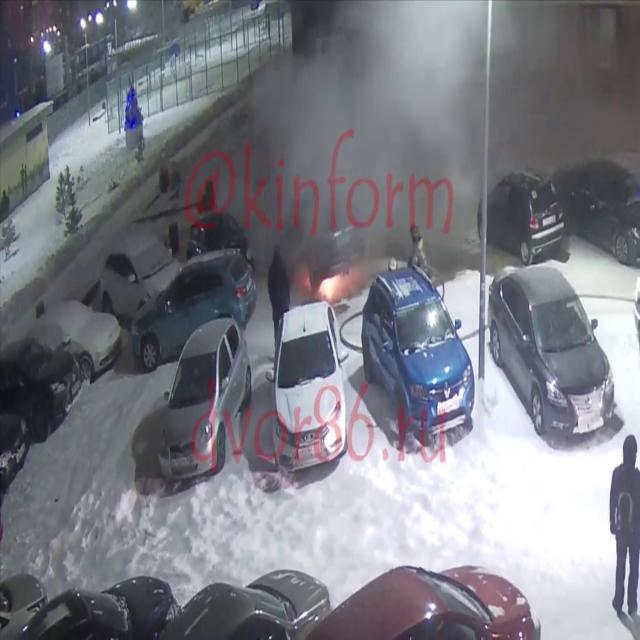Smoke: (246, 1, 640, 262)
